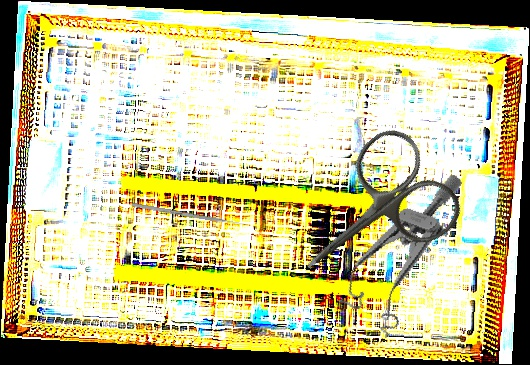Iris Scissors: (269, 119, 471, 314)
Pusher: (131, 202, 250, 228)
Speculum: (332, 152, 464, 345)
